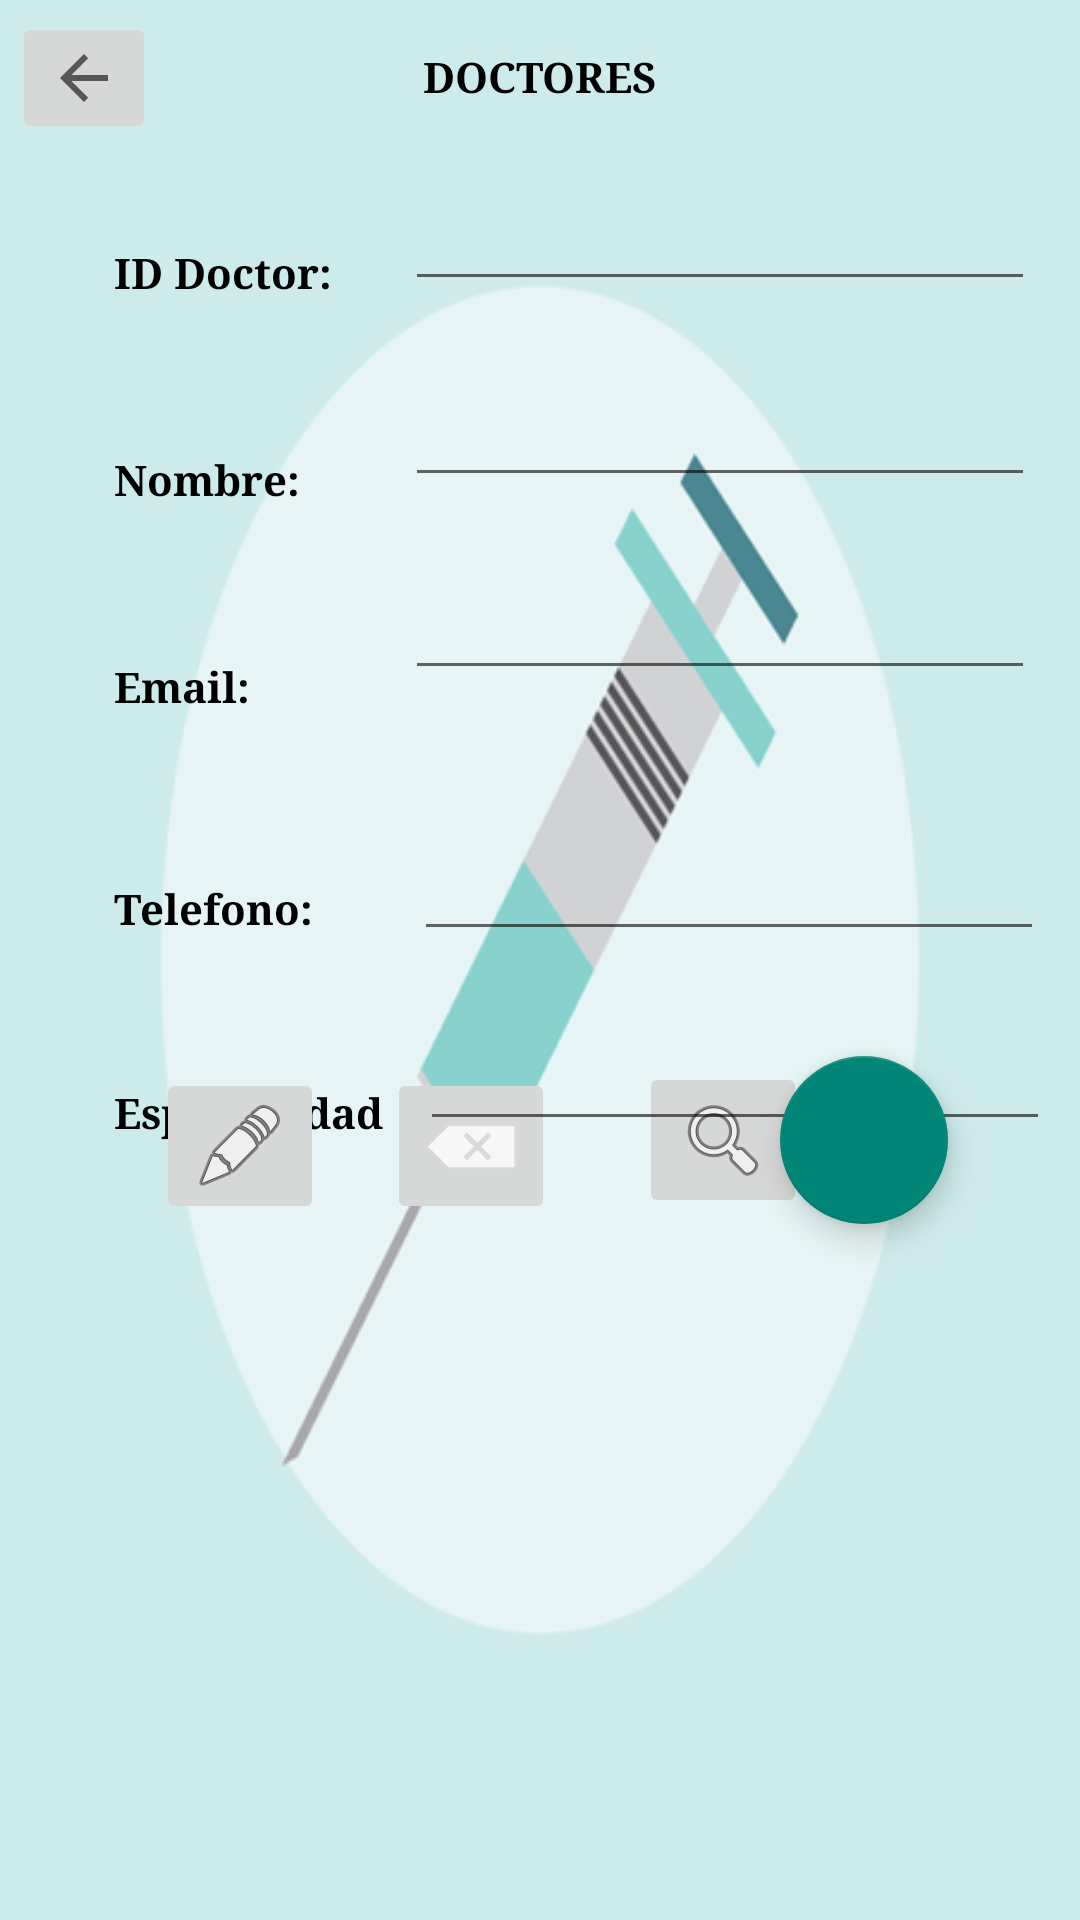

Named icons in this screenshot (1080 x 1920) and their bounding boxes, Rect(x1, y1, x2, y2):
delete: Rect(399, 1068, 555, 1224)
edit: Rect(156, 1068, 324, 1223)
search: Rect(639, 1078, 807, 1206)
